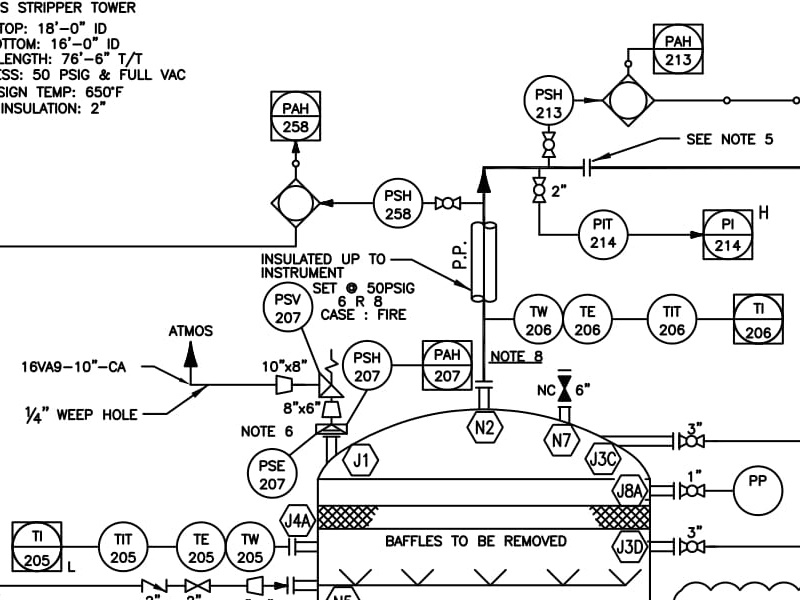Inline Instrument: (522, 73, 576, 127), (371, 175, 425, 229), (575, 207, 629, 261), (645, 292, 699, 346), (511, 290, 565, 344), (97, 519, 151, 573), (173, 518, 227, 572), (246, 446, 300, 500), (339, 339, 393, 393), (262, 280, 316, 334)
Panel Instrument: (268, 87, 323, 144), (652, 19, 707, 76), (700, 205, 755, 262), (731, 289, 786, 346), (419, 336, 474, 393), (10, 519, 65, 576)
